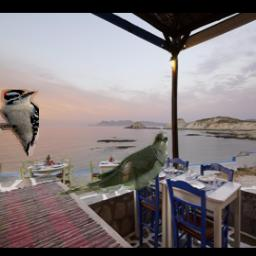Cuckoo: (58, 131, 169, 198)
Woodpecker: (0, 90, 40, 157)
